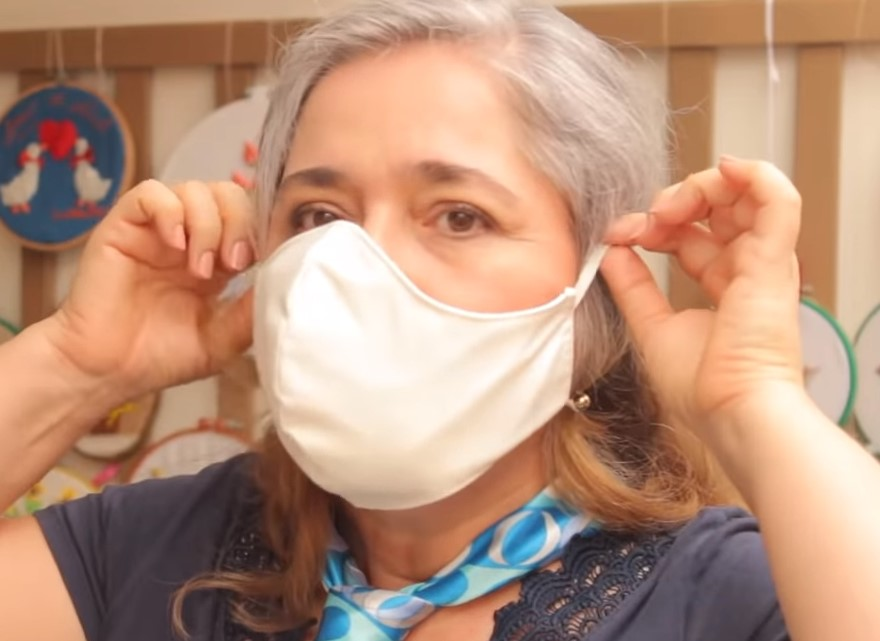face_with_mask: (240, 12, 674, 514)
